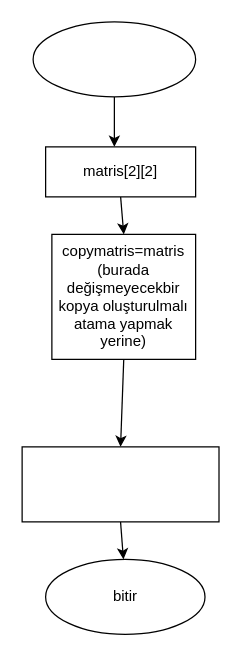
The diagram is 241 pixels wide and 656 high, and some of its shapes have lost their labels. The shapes that lost their labels are listed below. From the top down, each one's box as (x1, y1, x2, y2) in pixels, then its label:
(32, 21, 196, 97): basla
(21, 446, 219, 522): matris[0][1]=copymatris[1][0] matris[1][0]=copymatris[0][1]
